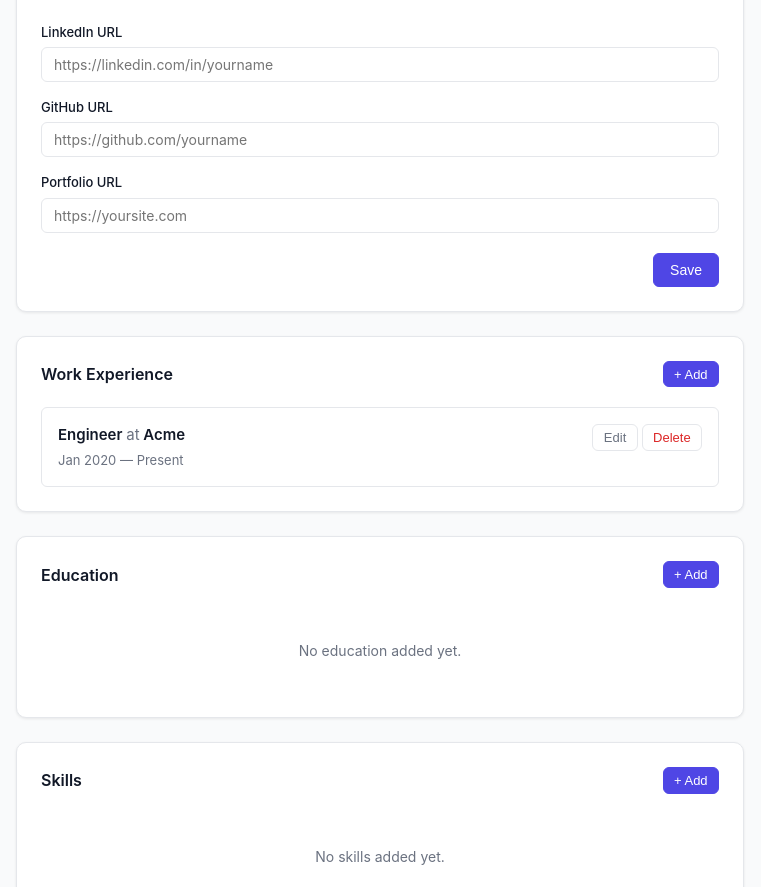
it: ProfileView › pre-populates experience form for editing
(page scrolled)
Step 1. Click the button "Edit" → click(615, 438), box [592,424,638,451]
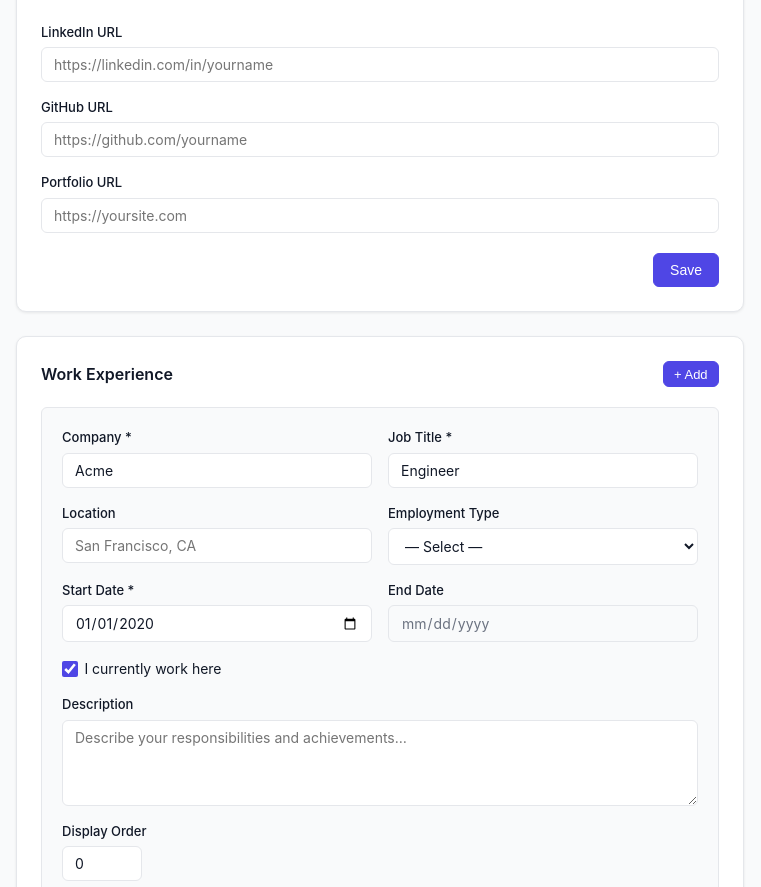
Now the field with id "exp-company" holds "Acme", box [62,453,372,488]
